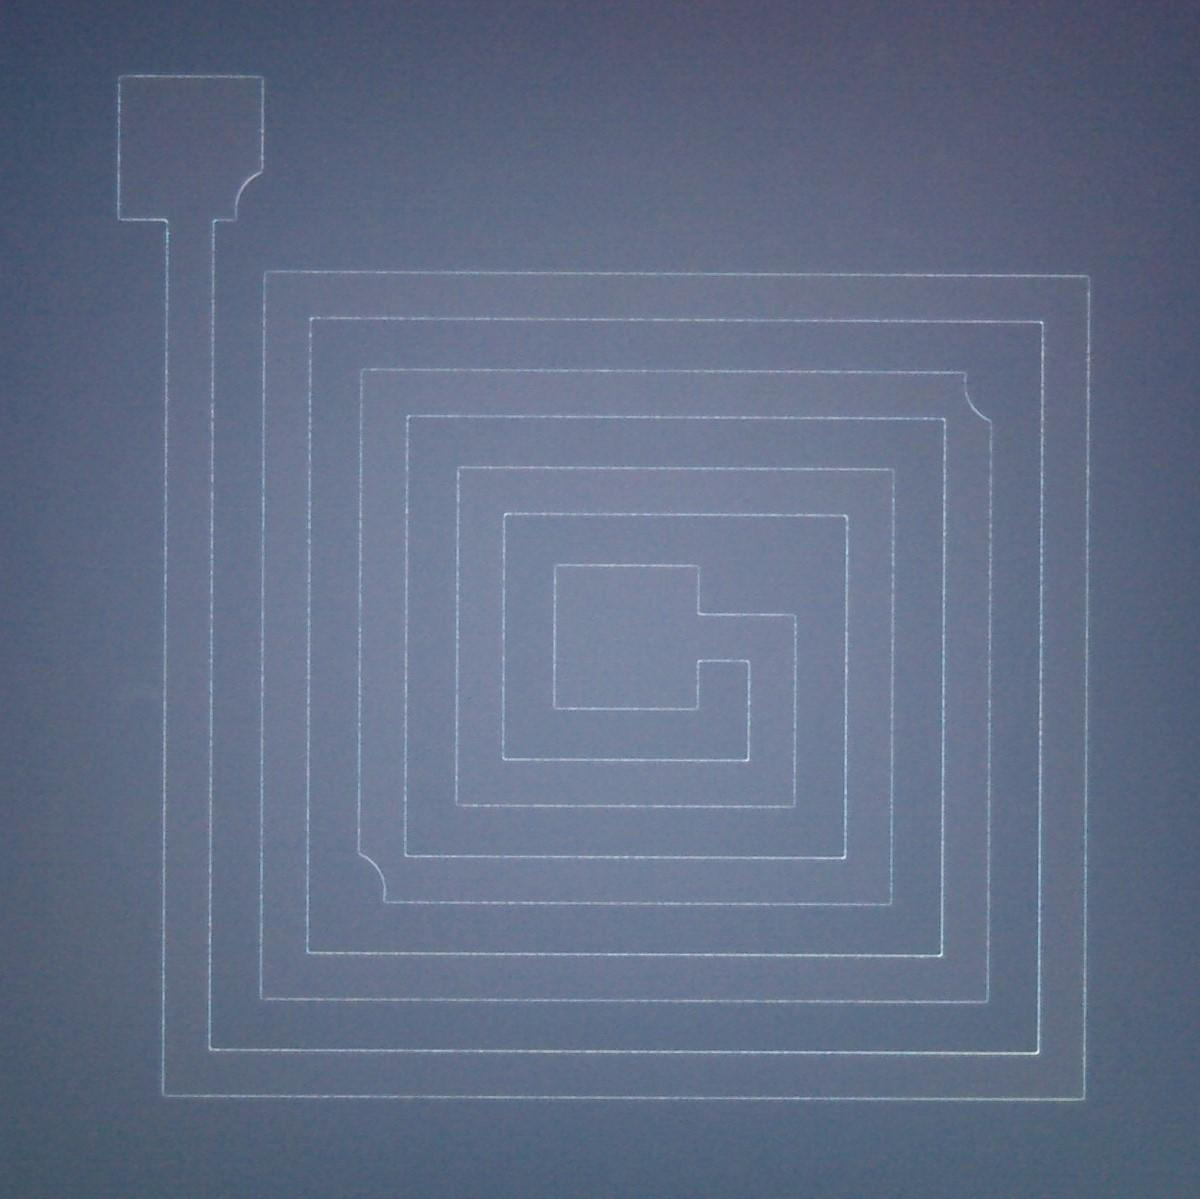cut: (186, 138, 298, 240), (333, 821, 447, 921), (917, 350, 1010, 461)
